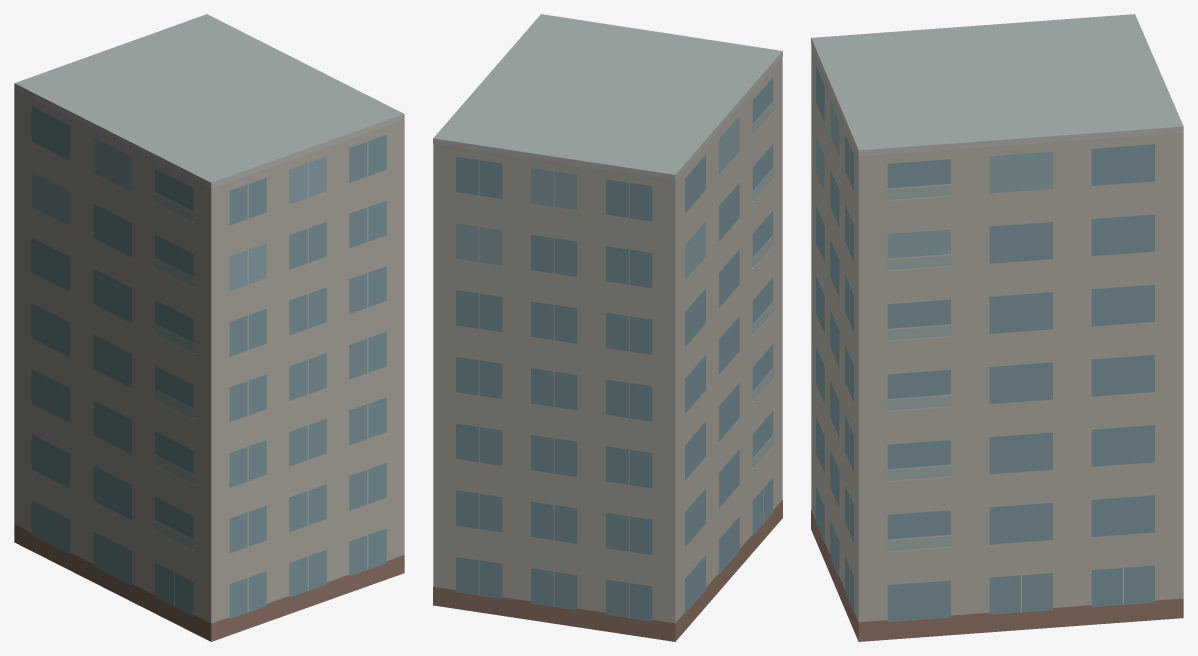
The model's file is survey-upis-32704515.glb.
The picture shows the model from 3 angles, left to right: view 1: azimuth 30°, elevation 25°; view 2: azimuth 150°, elevation 25°; view 3: azimuth 270°, elevation 25°; orthographic projection. The views are drawn at different scales.
Visible parts, largest first — view 1: survey-upis-32704515.tmp; view 2: survey-upis-32704515.tmp; view 3: survey-upis-32704515.tmp.
Part boxes in pixels (x1=…): survey-upis-32704515.tmp: x1=14, y1=14, x2=404, y2=641; survey-upis-32704515.tmp: x1=433, y1=14, x2=782, y2=641; survey-upis-32704515.tmp: x1=811, y1=14, x2=1183, y2=641.
Size of the model in its own units: 11.88 by 19.95 by 13.72.
